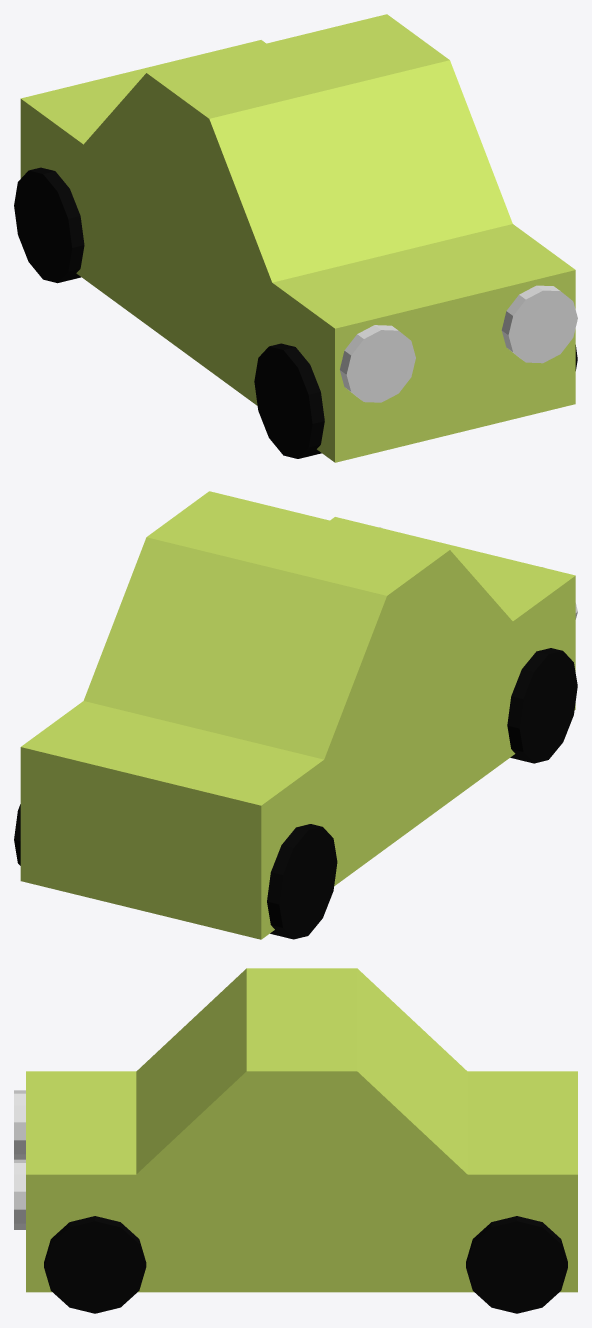
The model's file is car.fbx.
The picture shows the model from 3 angles, top to bottom: view 1: azimuth 30°, elevation 25°; view 2: azimuth 150°, elevation 25°; view 3: azimuth 270°, elevation 25°; orthographic projection. The views are drawn at different scales.
Visible parts, largest first — view 1: 立方体, 円柱.002, 円柱, 円柱.001; view 2: 立方体, 円柱.001, 円柱; view 3: 立方体, 円柱, 円柱.001, 円柱.002.
Part boxes in pixels (x1,y1,x2,y2): 立方体: (20, 14, 575, 462); 円柱.002: (340, 285, 577, 402); 円柱: (254, 343, 577, 458); 円柱.001: (14, 167, 84, 283); 立方体: (20, 491, 575, 939); 円柱.001: (14, 804, 337, 939); 円柱: (507, 648, 577, 763); 立方体: (26, 968, 577, 1292); 円柱: (44, 1216, 146, 1313); 円柱.001: (466, 1216, 567, 1313); 円柱.002: (14, 1090, 25, 1229).
Size of the model in its own units: 220 by 215 by 463.
